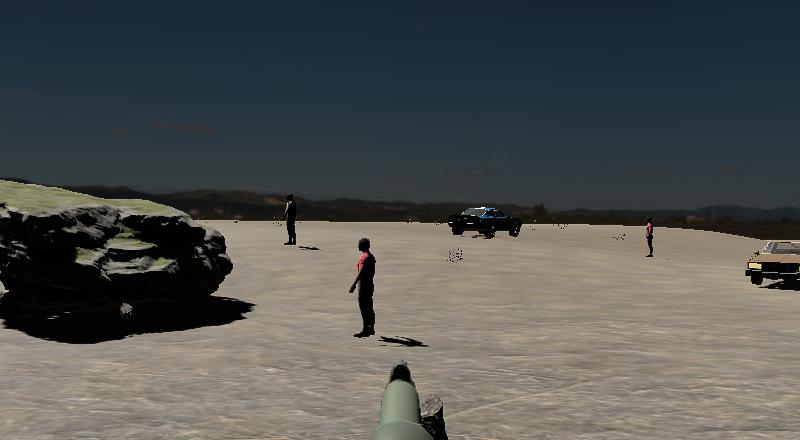Human: (347, 233, 381, 340), (643, 214, 657, 261)
car: (742, 235, 800, 292), (446, 204, 525, 241)
